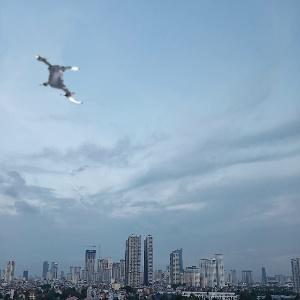drone: (34, 51, 94, 111)
